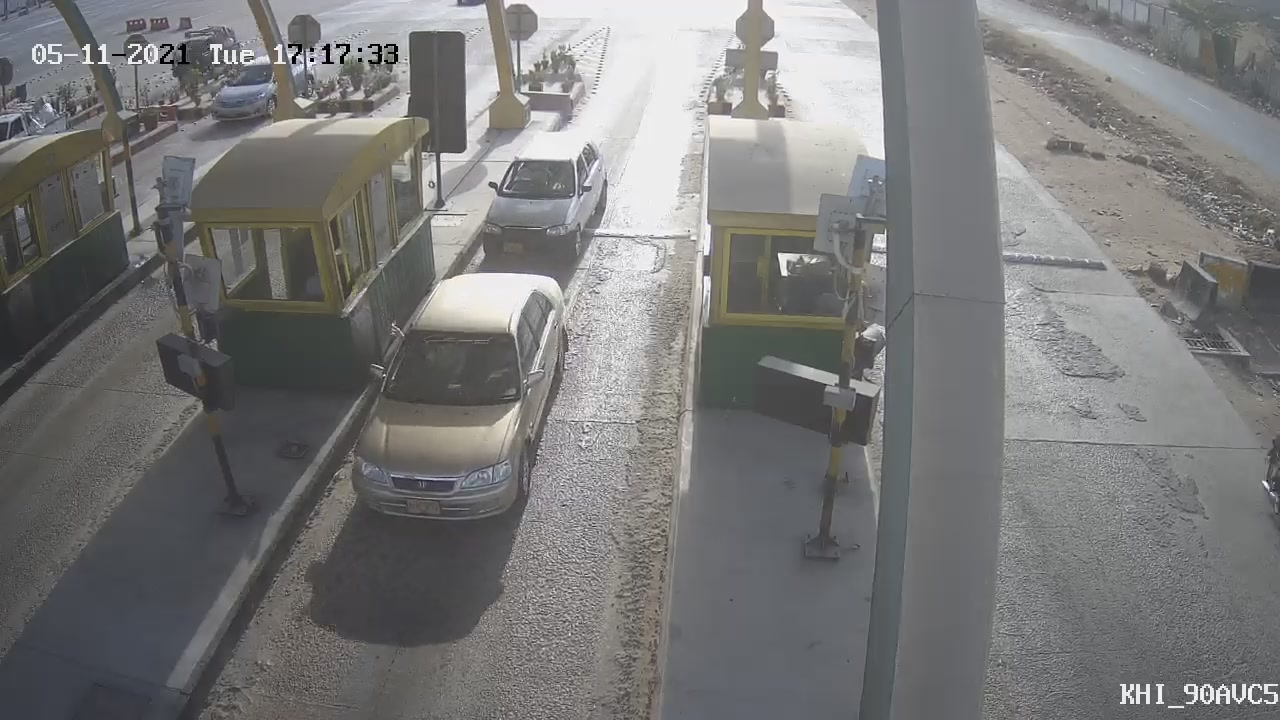F1: (339, 253, 583, 540), (468, 120, 620, 278)
